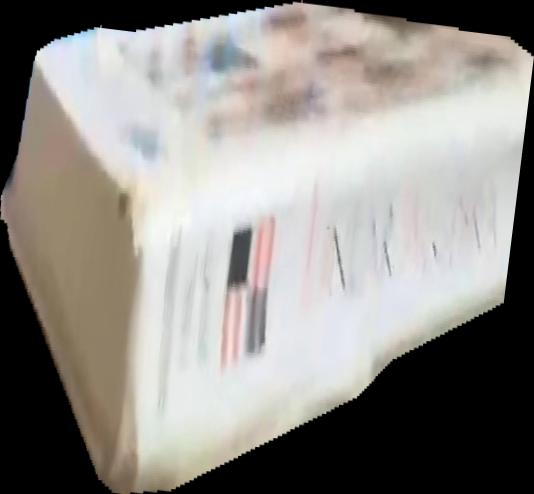flat: (1, 1, 534, 494)
